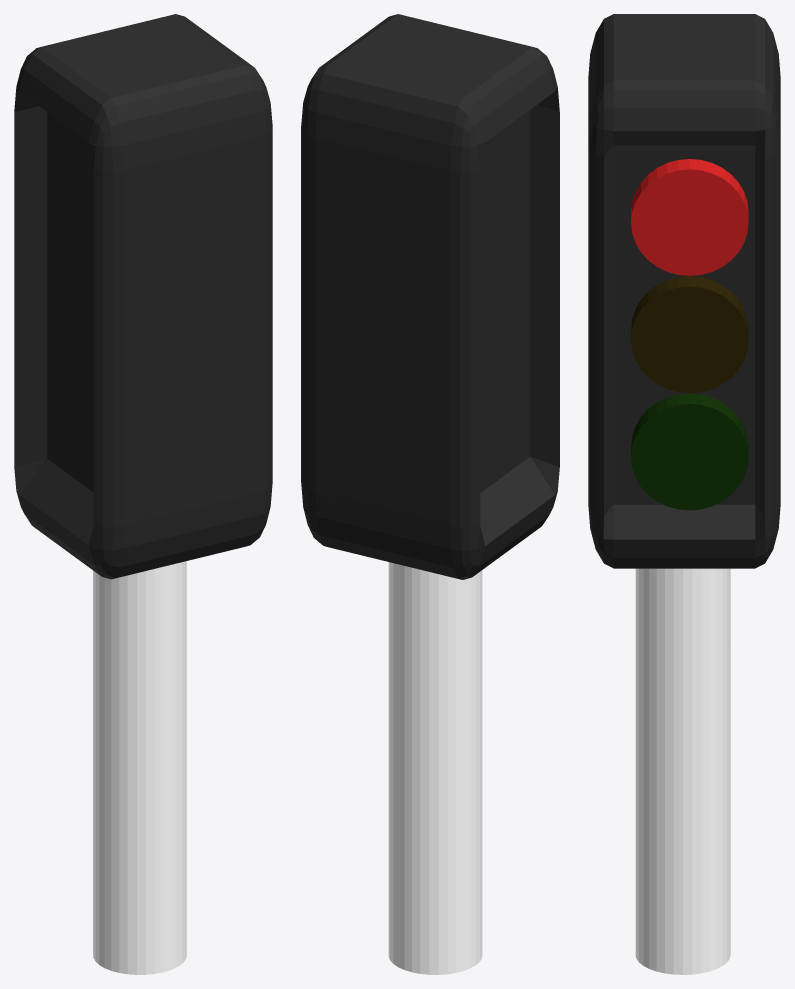
The model's file is RED1.glb.
3 renders of one model, left to right at view 1: azimuth 30°, elevation 25°; view 2: azimuth 150°, elevation 25°; view 3: azimuth 270°, elevation 25°, orthographic.
Visible parts, largest first — view 1: Cube, Cylinder; view 2: Cube, Cylinder; view 3: Cube, Cylinder, Cylinder.004, Cylinder.003, Cylinder.002.
Boxes of the visible parts, x1,y1,x2,y2 form: Cube: (14,14,272,579); Cylinder: (93,561,186,974); Cube: (301,14,559,579); Cylinder: (388,562,482,974); Cube: (588,14,780,568); Cylinder: (635,568,730,974); Cylinder.004: (631,393,748,510); Cylinder.003: (631,276,748,393); Cylinder.002: (631,159,748,275).
Bounding box in the file's own units: 2.02 × 9.69 × 1.86.
